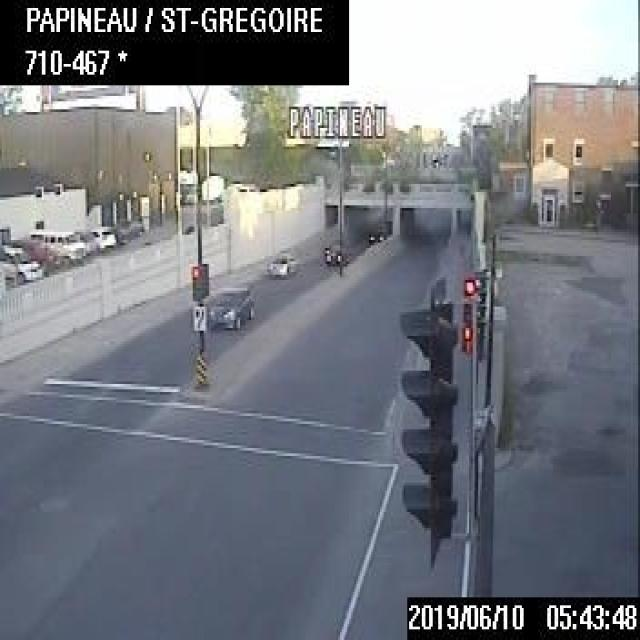vehicle: (206, 280, 256, 328), (0, 243, 44, 280), (34, 229, 85, 260), (264, 250, 298, 274), (91, 222, 119, 250), (325, 243, 348, 264), (368, 227, 386, 243)
